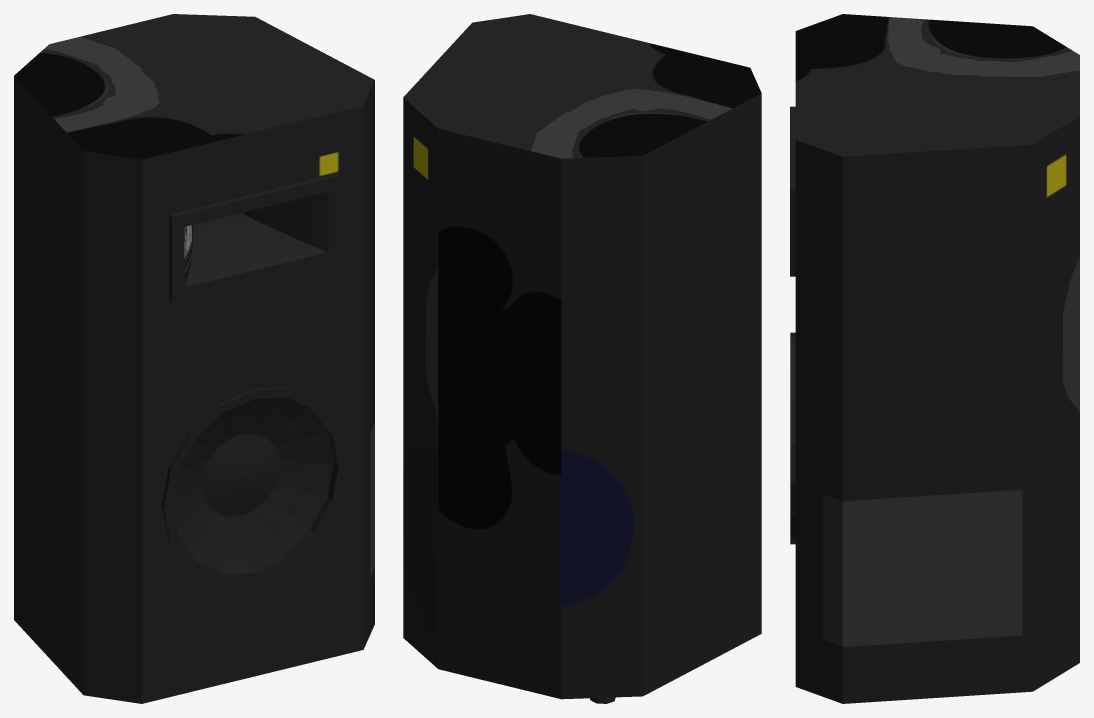
The model's file is Speaker.fbx.
3 views of the same model, side by side, from view 1: azimuth 30°, elevation 25°; view 2: azimuth 150°, elevation 25°; view 3: azimuth 270°, elevation 25° (orthographic).
Parts seen in each view (by area): view 1: PA_speakers; view 2: PA_speakers; view 3: PA_speakers.
Part boxes in pixels (x1,y1,x2,y2): PA_speakers: (14,14,374,703); PA_speakers: (403,14,761,703); PA_speakers: (790,14,1079,703).
Size of the model in its own units: 192 by 352 by 165.
1 material, 1 textured.
